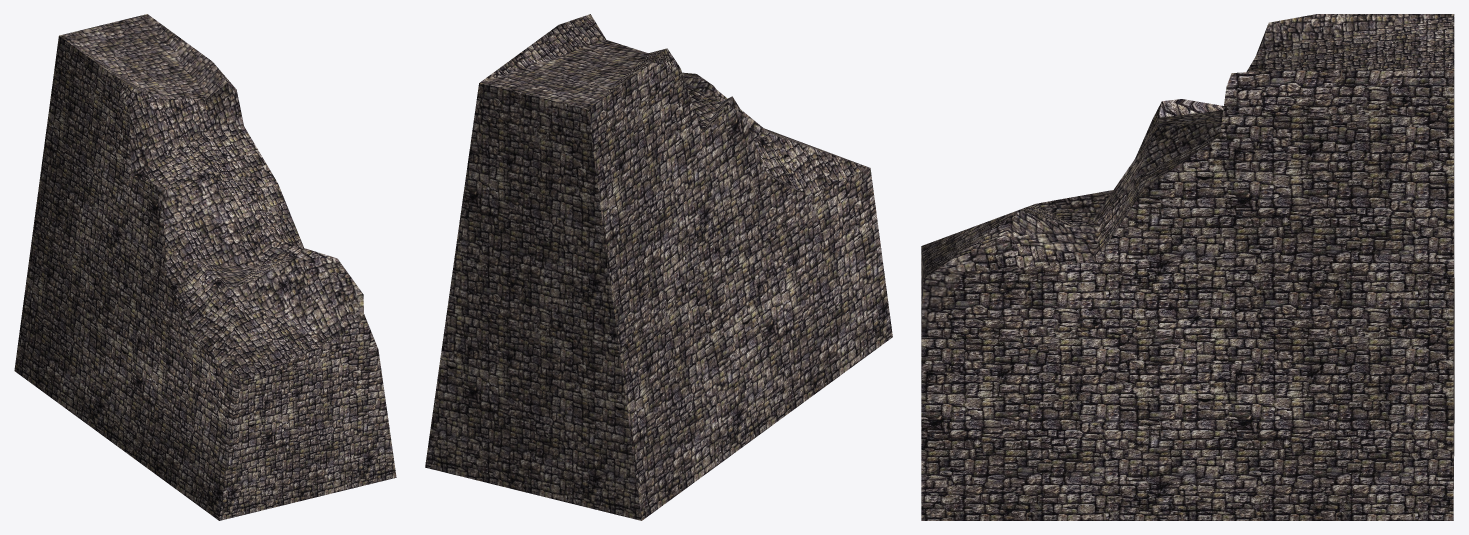
Rendered from pir_m_bld_frt_innerWallCrumbling_100.fbx.
The picture shows the model from 3 angles, left to right: view 1: azimuth 30°, elevation 25°; view 2: azimuth 150°, elevation 25°; view 3: azimuth 270°, elevation 25°; orthographic projection. The views are drawn at different scales.
Parts seen in each view (by area): view 1: lod_high; view 2: lod_high; view 3: lod_high.
Part boxes in pixels (bbox=[...]): lod_high: bbox=[14, 14, 396, 520]; lod_high: bbox=[425, 14, 892, 520]; lod_high: bbox=[921, 14, 1454, 520].
Size of the model in its own units: 5000 by 8750 by 10009.
1 material, 1 textured.
